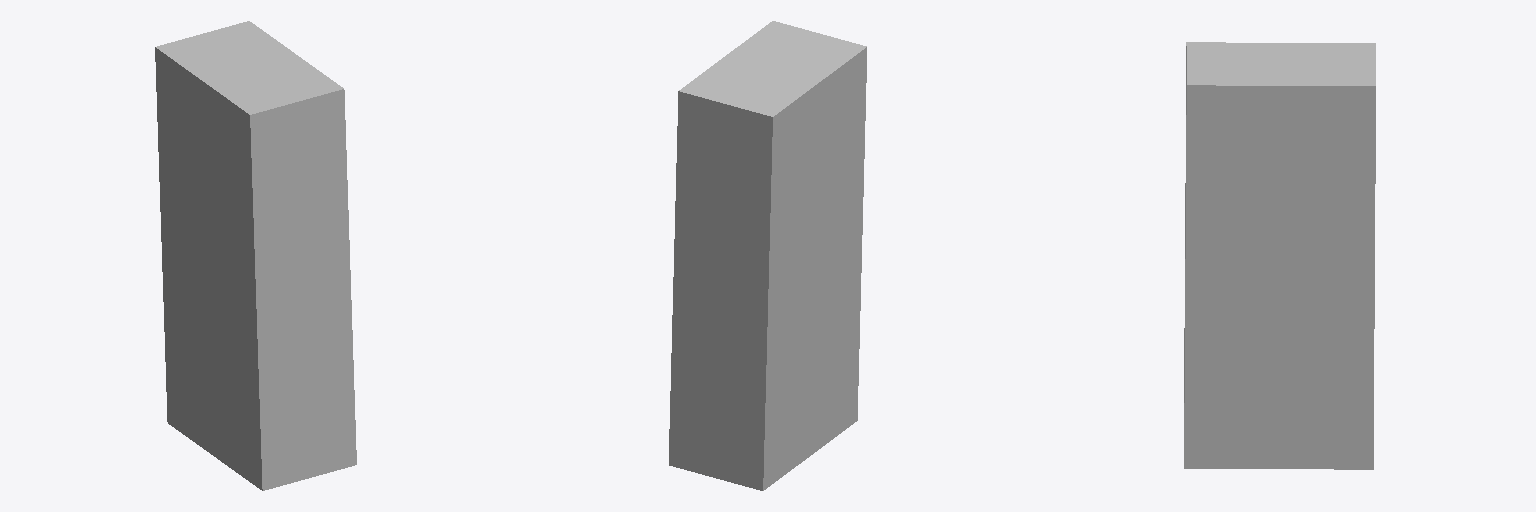
Rendered from pied droit.obj.
3 renders of one model, left to right at view 1: azimuth 30°, elevation 25°; view 2: azimuth 150°, elevation 25°; view 3: azimuth 270°, elevation 25°, orthographic.
Parts seen in each view (by area): view 1: Cube.003; view 2: Cube.003; view 3: Cube.003.
Boxes of the visible parts, x1=… form: Cube.003: x1=155, y1=21, x2=356, y2=490; Cube.003: x1=669, y1=21, x2=866, y2=490; Cube.003: x1=1184, y1=42, x2=1375, y2=469.
Bounding box in the file's own units: 0.443 × 1.53 × 0.6961.